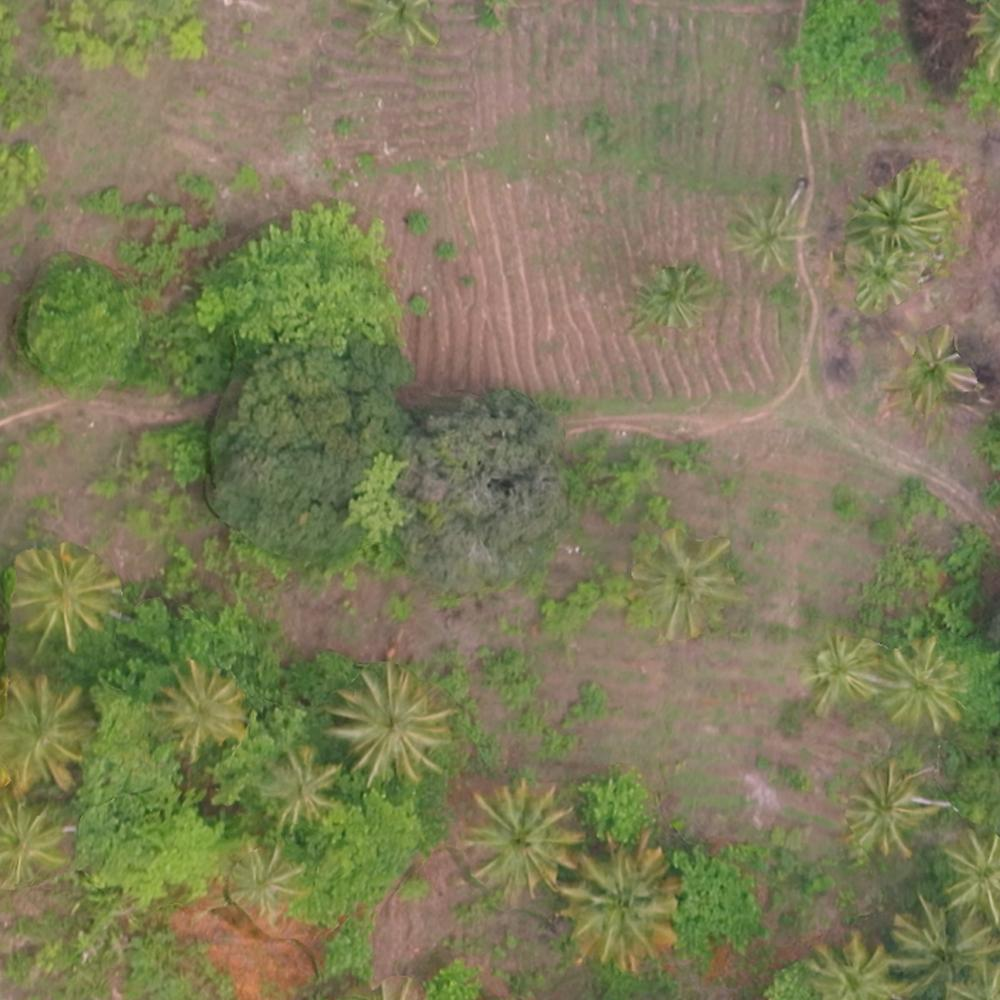Palm: (557, 843, 679, 964), (331, 664, 449, 783), (461, 785, 579, 901), (632, 535, 737, 644), (1, 673, 90, 796), (886, 897, 996, 995), (11, 546, 111, 649), (841, 764, 932, 856), (882, 326, 975, 412), (884, 642, 974, 730), (154, 663, 238, 754), (853, 178, 934, 264), (805, 930, 903, 1000), (262, 746, 346, 824), (801, 628, 881, 709), (722, 199, 804, 274), (633, 266, 708, 338), (3, 805, 63, 881)
